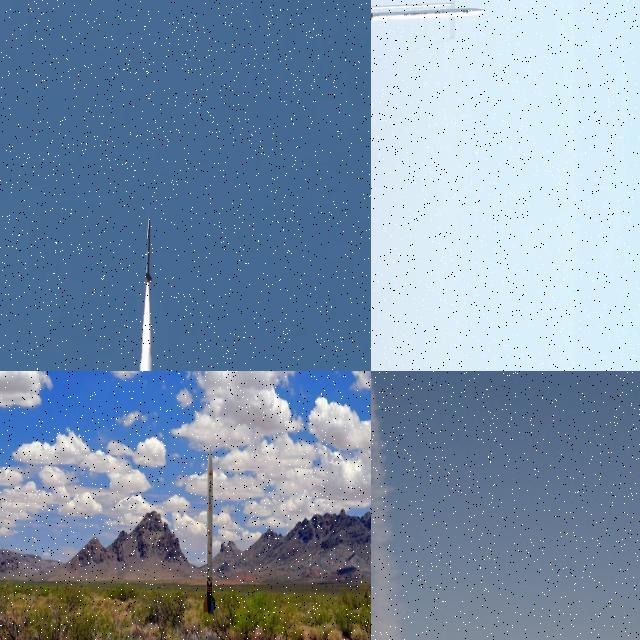Rocket: (371, 7, 484, 26), (203, 445, 215, 617), (144, 213, 153, 284)
